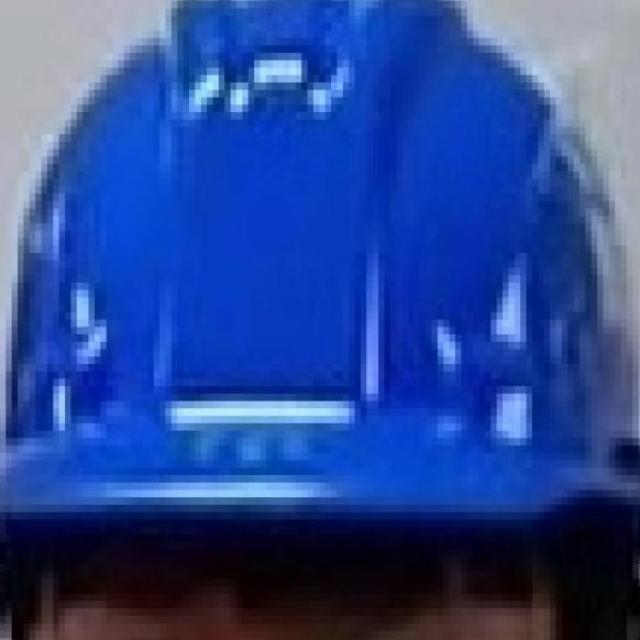blue helmet: (1, 1, 640, 540)
